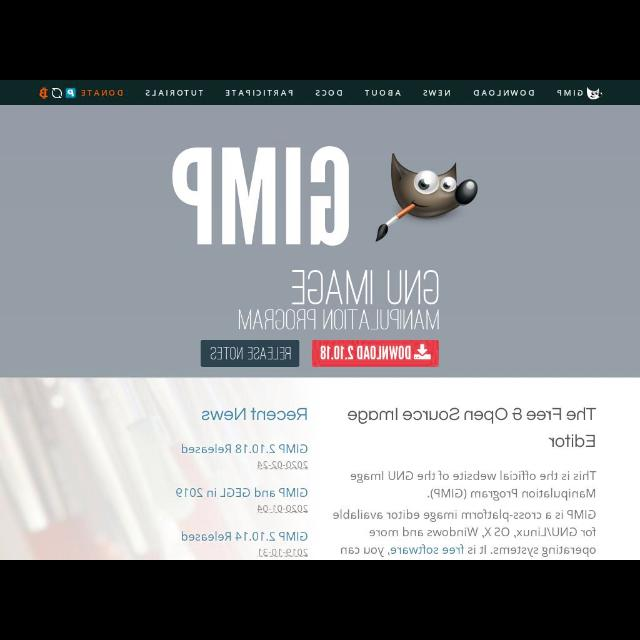backgroundimage: (1, 104, 639, 376)
icon: (412, 344, 432, 361)
image: (586, 88, 602, 100), (65, 87, 77, 99), (51, 87, 63, 99), (38, 87, 48, 99)
multitab: (145, 86, 537, 100)
text: (332, 470, 598, 558), (348, 406, 596, 424), (200, 406, 308, 422), (180, 443, 310, 455), (182, 530, 308, 542), (320, 344, 412, 360), (175, 488, 307, 498), (210, 346, 292, 360), (548, 433, 596, 449), (257, 504, 309, 514), (258, 460, 308, 470), (473, 89, 535, 97), (146, 89, 204, 97), (225, 90, 293, 96), (258, 548, 308, 556), (81, 89, 123, 97), (364, 89, 402, 97), (422, 89, 452, 97), (557, 89, 583, 98), (316, 89, 342, 97)
textbutton: (312, 340, 438, 368), (200, 340, 300, 368)
